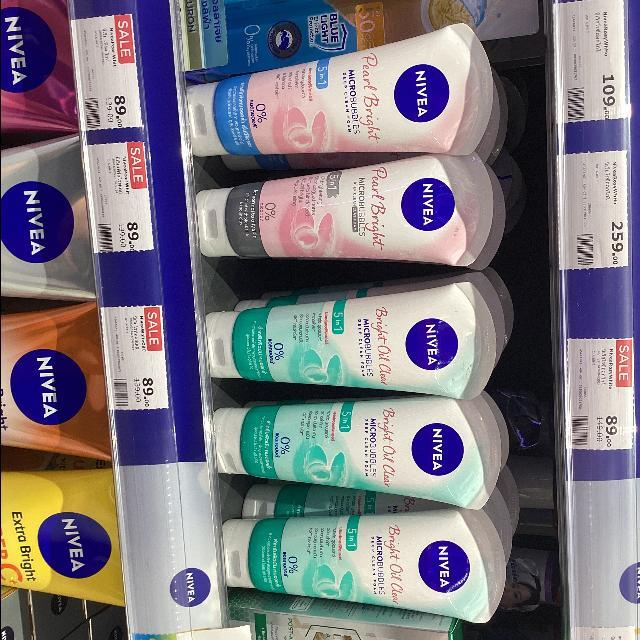Squeeze Tube: (142, 14, 547, 640), (176, 23, 472, 175), (200, 156, 487, 272), (204, 283, 476, 401), (219, 513, 487, 628), (216, 407, 499, 507)
